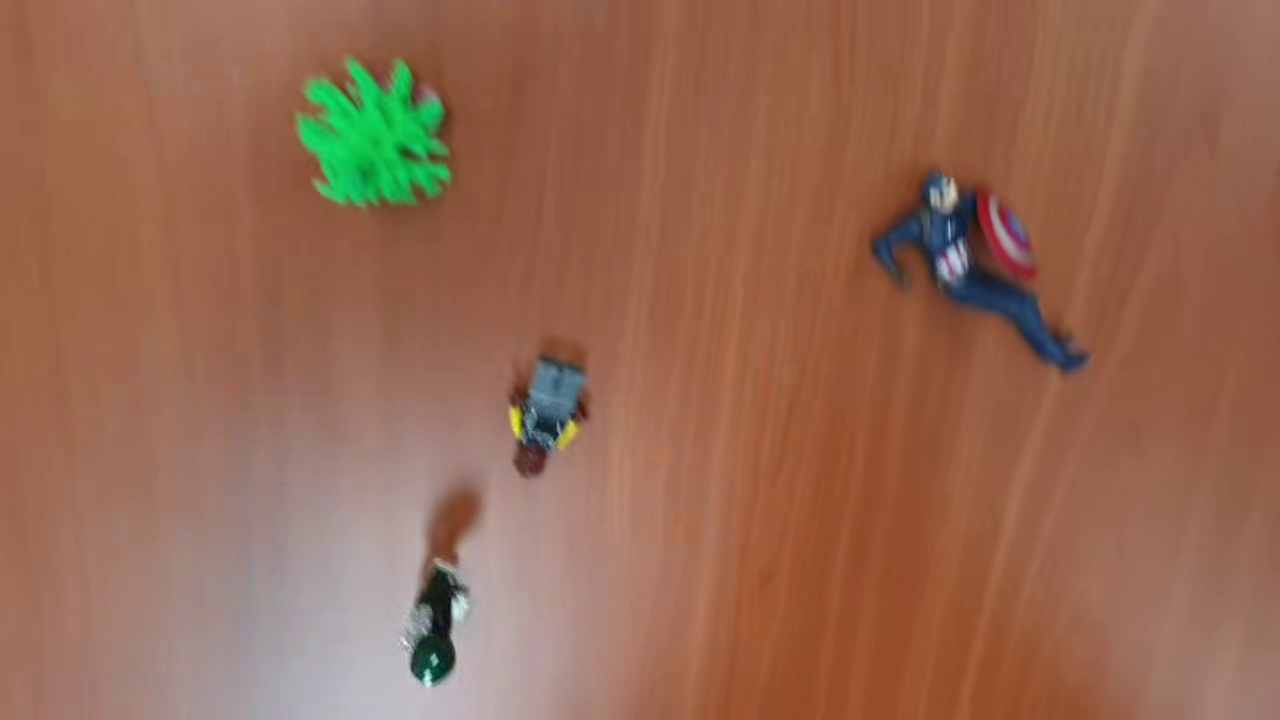people: (868, 168, 1091, 380), (503, 357, 587, 480), (400, 559, 477, 684)
tree: (293, 56, 459, 206)
